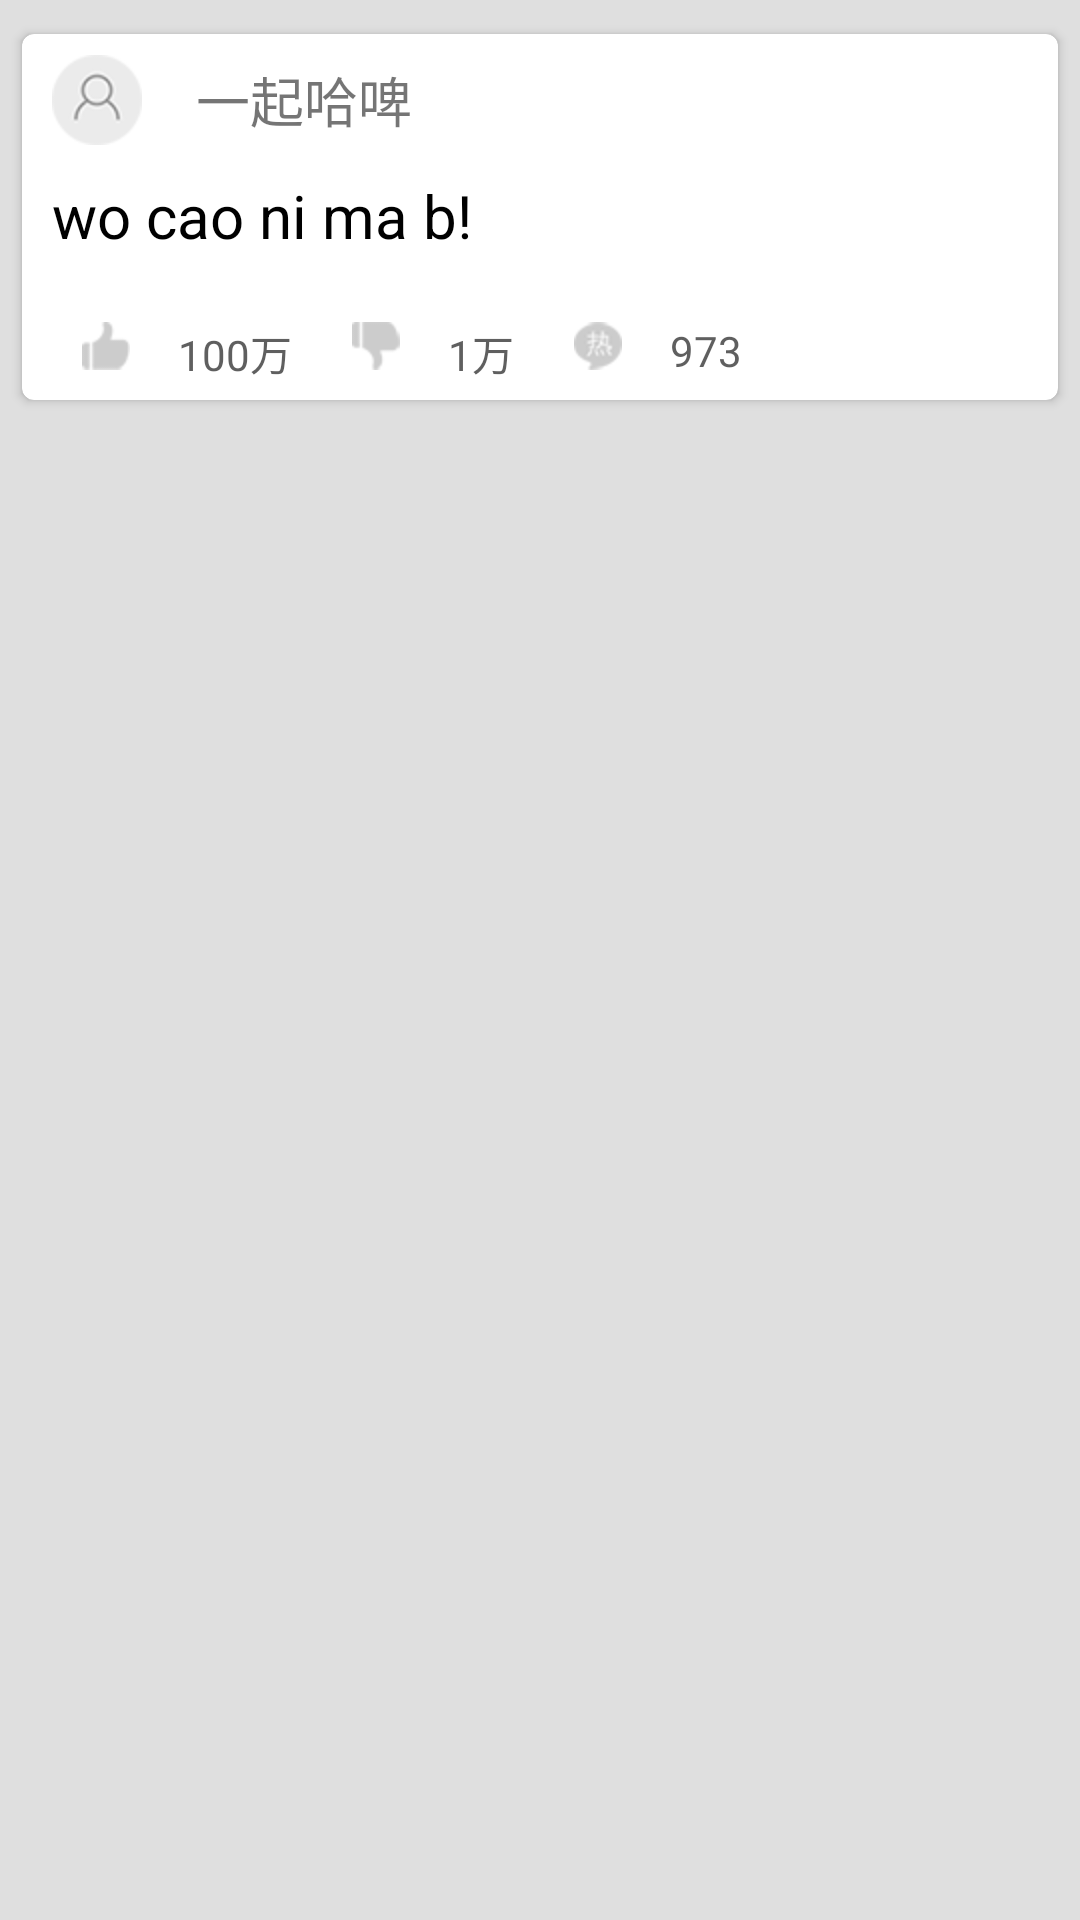

Locate icon controls on the screen. Image size 1080*1920, boxes as box=[x1, y1, x2, y2].
bury: box=[352, 322, 400, 370]
digg: box=[82, 322, 129, 370]
hot commenticon textpage: box=[574, 322, 622, 370]
